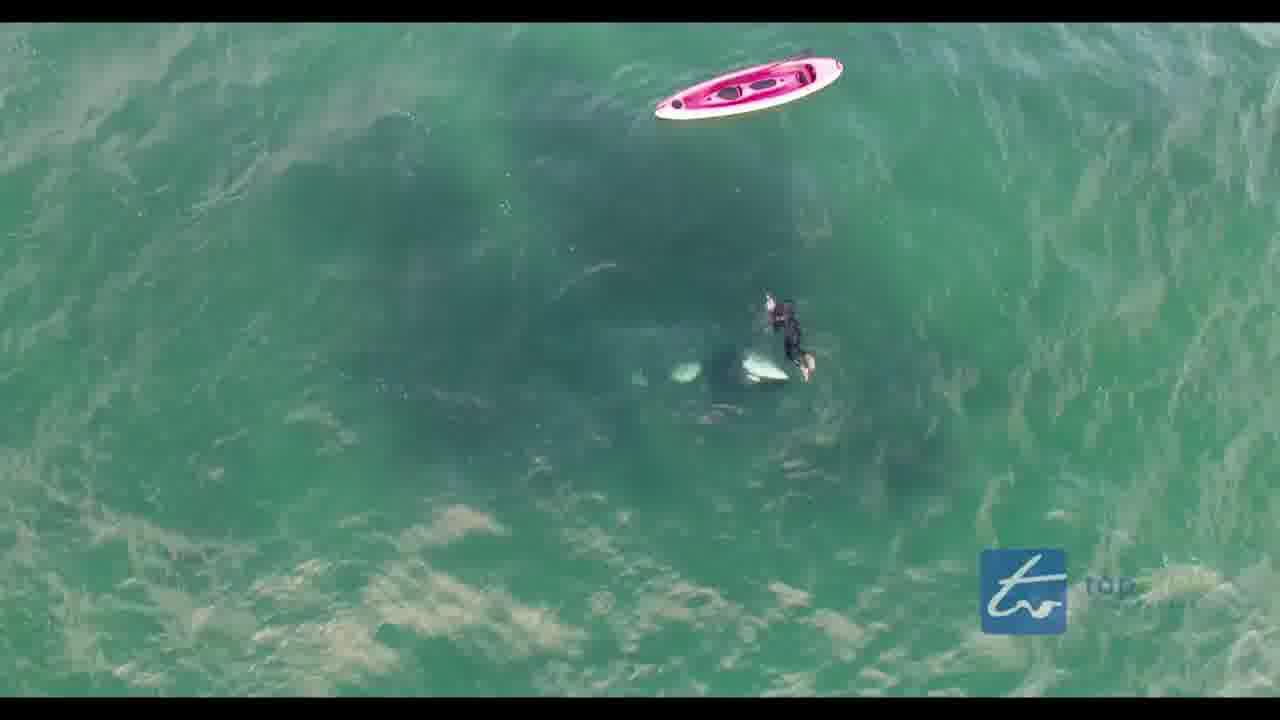swimmer: (753, 285, 817, 374)
